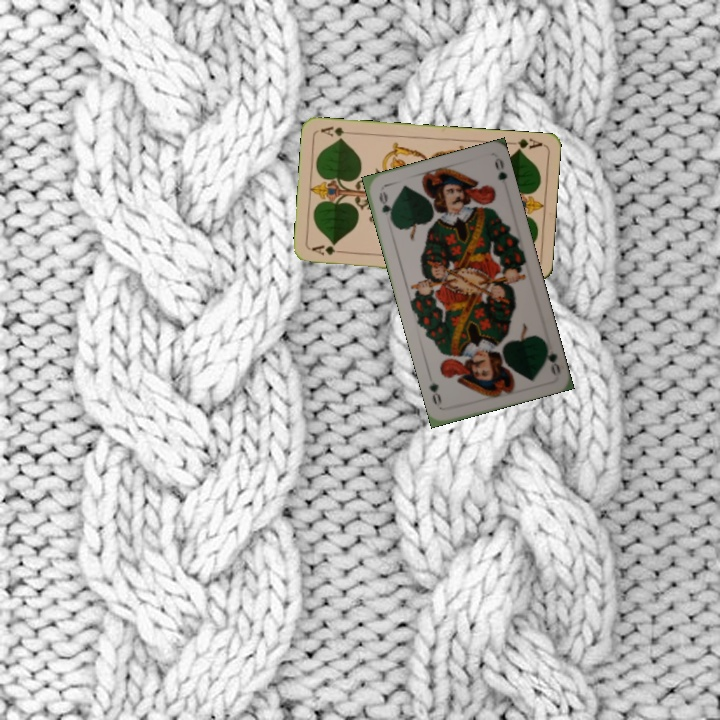GA: (504, 134, 545, 154), (308, 241, 348, 258)
GO: (538, 336, 563, 377), (375, 187, 396, 226)
